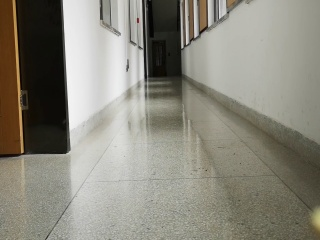room: (1, 1, 71, 156)
